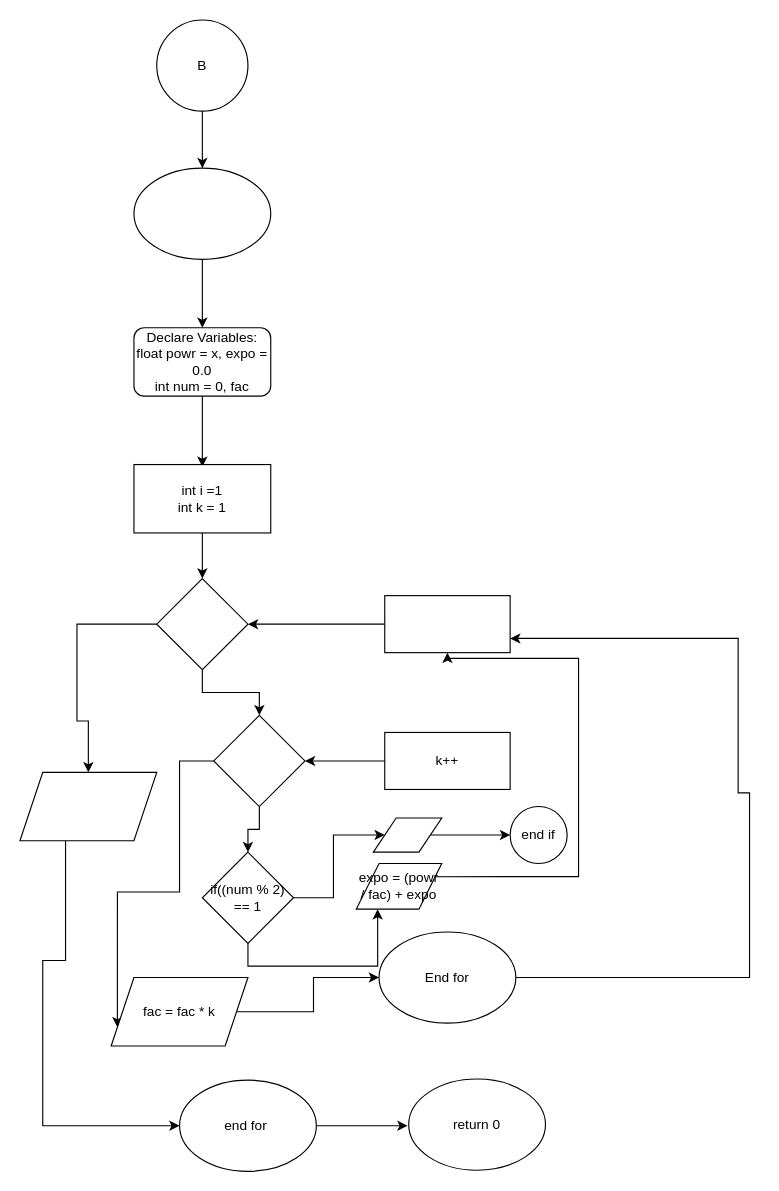
Some shapes in this 779 by 1191 pixel diagram are drawn without their labels. The shapes that lost their labels are listed below. From the top down, each one's box as (x1, y1, x2, y2) in pixels, then its label:
(133, 167, 271, 259): Function: float seque(float x, int nterms)
(156, 577, 248, 670): num < nterms
(384, 595, 510, 653): num++
(213, 714, 305, 807): k <= i
(19, 771, 157, 841): powr = powr * x * x
(372, 817, 442, 852): expo = expo - (powr /fac)
